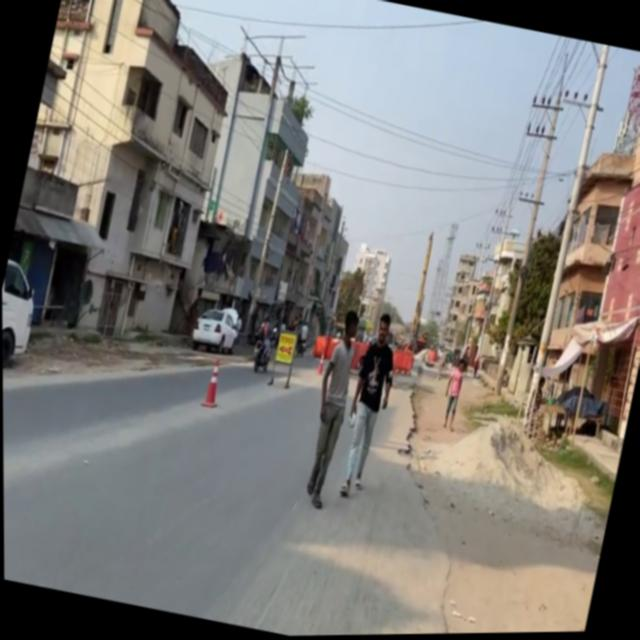Construction-barrier: (353, 376, 509, 636), (396, 387, 427, 456)
Fallen-tree: (246, 331, 274, 375), (291, 333, 308, 359)
Garbage: (415, 395, 593, 545), (265, 328, 299, 389), (388, 348, 415, 377)
Garbage-bin: (293, 307, 367, 510), (330, 310, 406, 503), (436, 357, 468, 431)
Light-pole: (516, 45, 614, 438)
Pothole: (355, 349, 632, 636), (397, 353, 499, 472)
